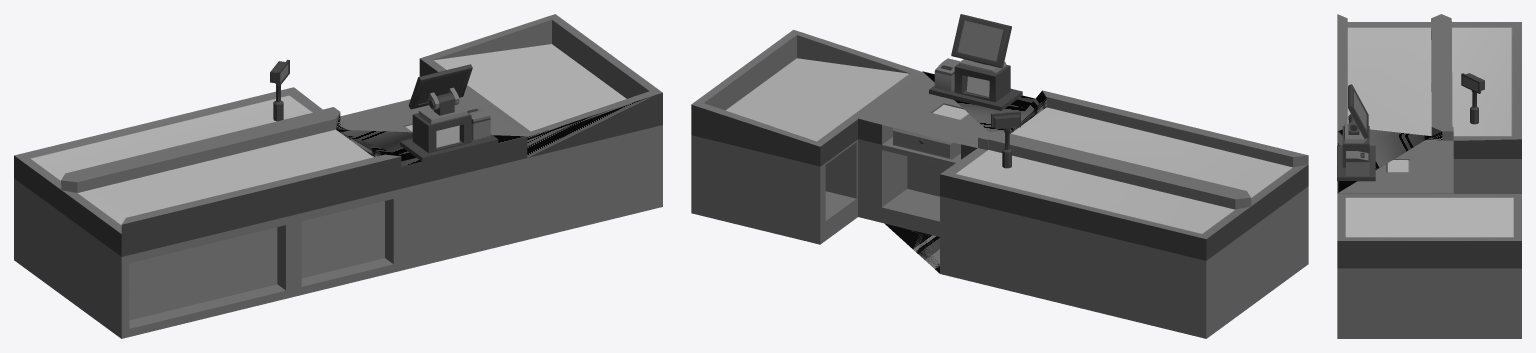
The model's file is caisse enregistreuse avec tapis texturer .fbx.
The picture shows the model from 3 angles, left to right: view 1: azimuth 30°, elevation 25°; view 2: azimuth 150°, elevation 25°; view 3: azimuth 270°, elevation 25°; orthographic projection. The views are drawn at different scales.
Visible parts, largest first — view 1: meuble_caisse_enregistreuse, caisse_enregistreuse, ecran_prix; view 2: meuble_caisse_enregistreuse, caisse_enregistreuse, ecran_prix; view 3: meuble_caisse_enregistreuse, caisse_enregistreuse, ecran_prix.
Part boxes in pixels (x1,y1,x2,y2): meuble_caisse_enregistreuse: (14, 14, 662, 338); caisse_enregistreuse: (400, 64, 498, 162); ecran_prix: (270, 59, 289, 121); meuble_caisse_enregistreuse: (691, 29, 1308, 338); caisse_enregistreuse: (929, 14, 1022, 110); ecran_prix: (991, 111, 1020, 168); meuble_caisse_enregistreuse: (1337, 14, 1521, 338); caisse_enregistreuse: (1337, 84, 1375, 181); ecran_prix: (1461, 73, 1484, 124).
Bounding box in the file's own units: 471 × 151 × 162.
Materials: 3 (3 with a texture image).
